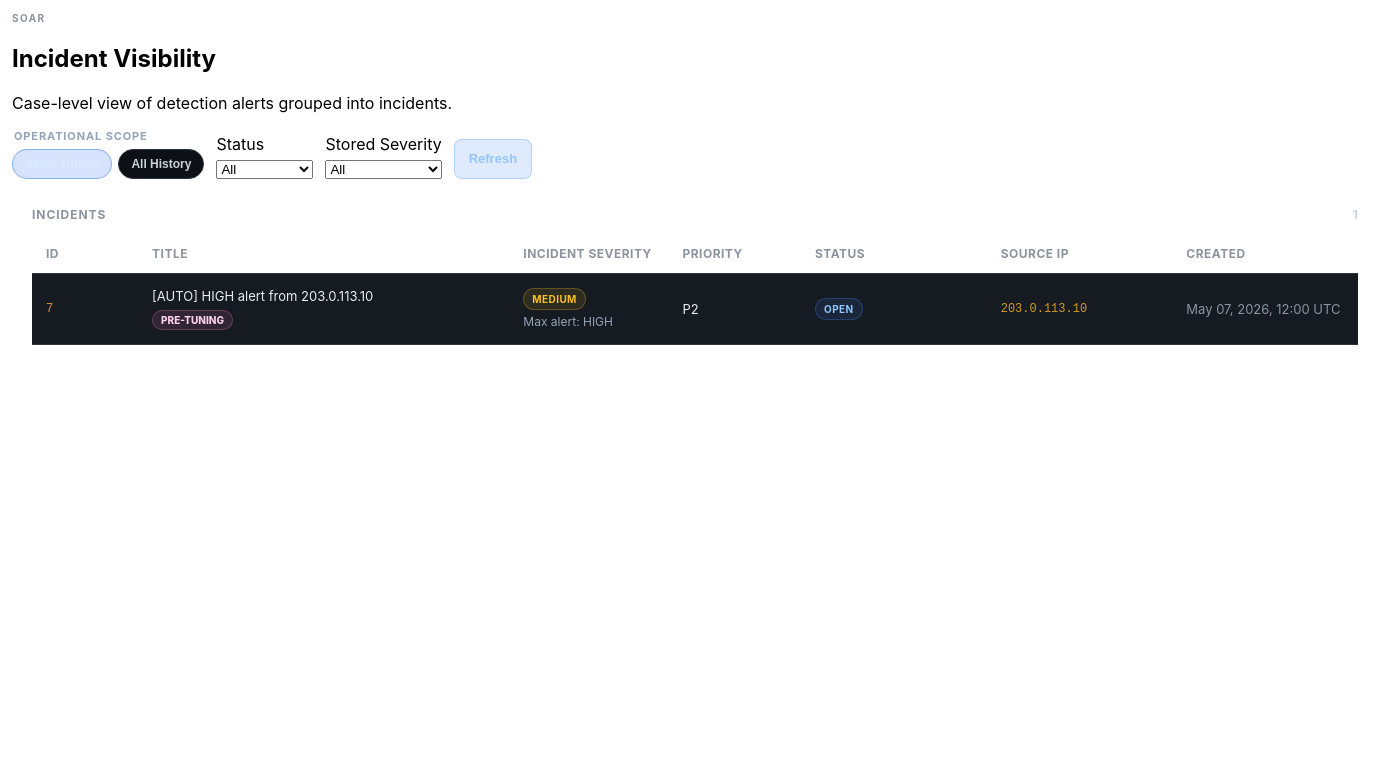
Scenario: IncidentsPanel › renders incident severity separately from stored and max alert severity
Expected: the text "Max alert: HIGH" is shown, [523, 314, 613, 329]
Click the text "[AUTO] HIGH alert from 203.0.113.10" at x=263, y=296, box [152, 288, 373, 304]
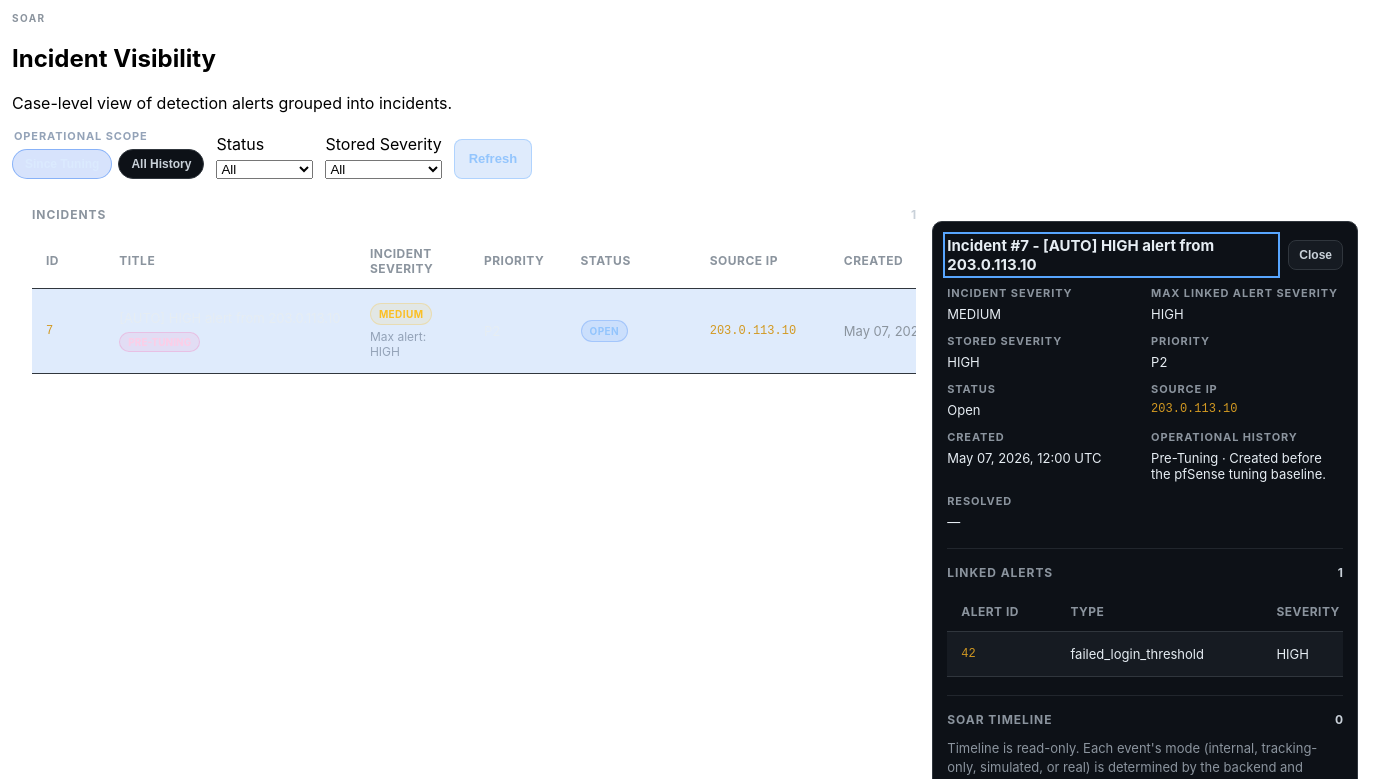
Expected: the text "Max Linked Alert Severity" is shown, [1151, 286, 1343, 300]
